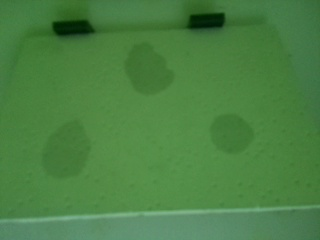Water_detected: (58, 127, 103, 171), (130, 46, 174, 82), (221, 124, 252, 150)
